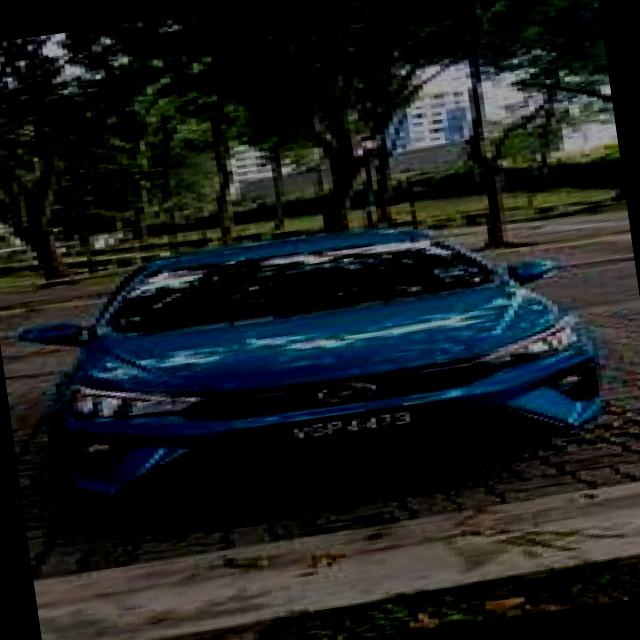PeroduaBezza: (9, 193, 612, 517)
